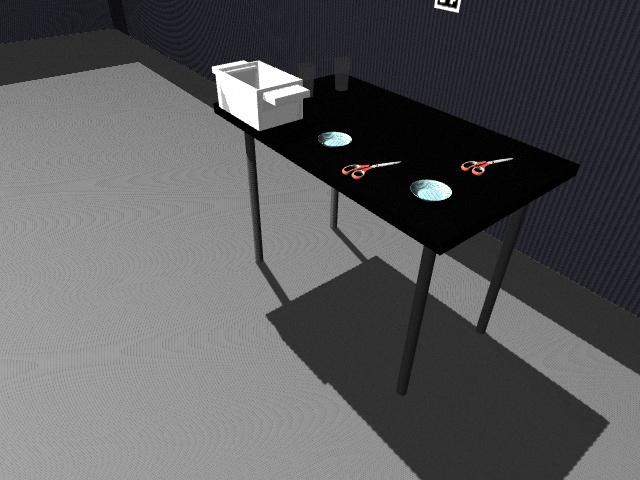cup: (333, 56, 351, 91), (297, 63, 316, 96)
plate: (409, 178, 454, 202), (317, 131, 353, 147)
scissors: (342, 160, 402, 181), (460, 157, 513, 175)
